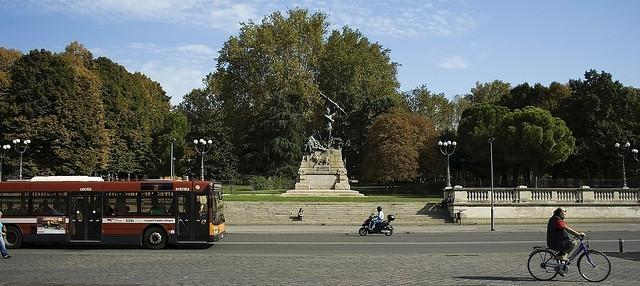bicycle: (526, 235, 614, 282)
bus: (1, 175, 227, 250)
motorcycle: (358, 212, 396, 238)
